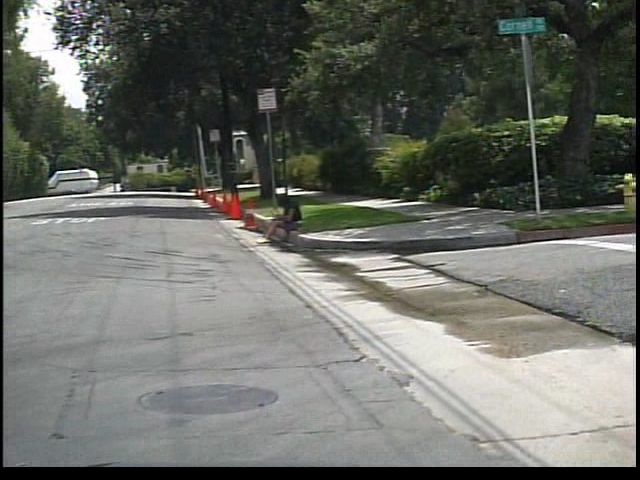person: (258, 192, 314, 246)
